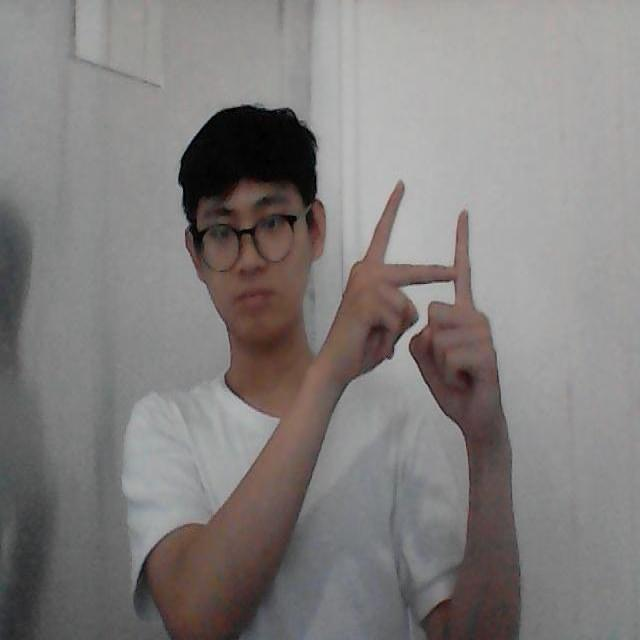H: (342, 172, 498, 369)
